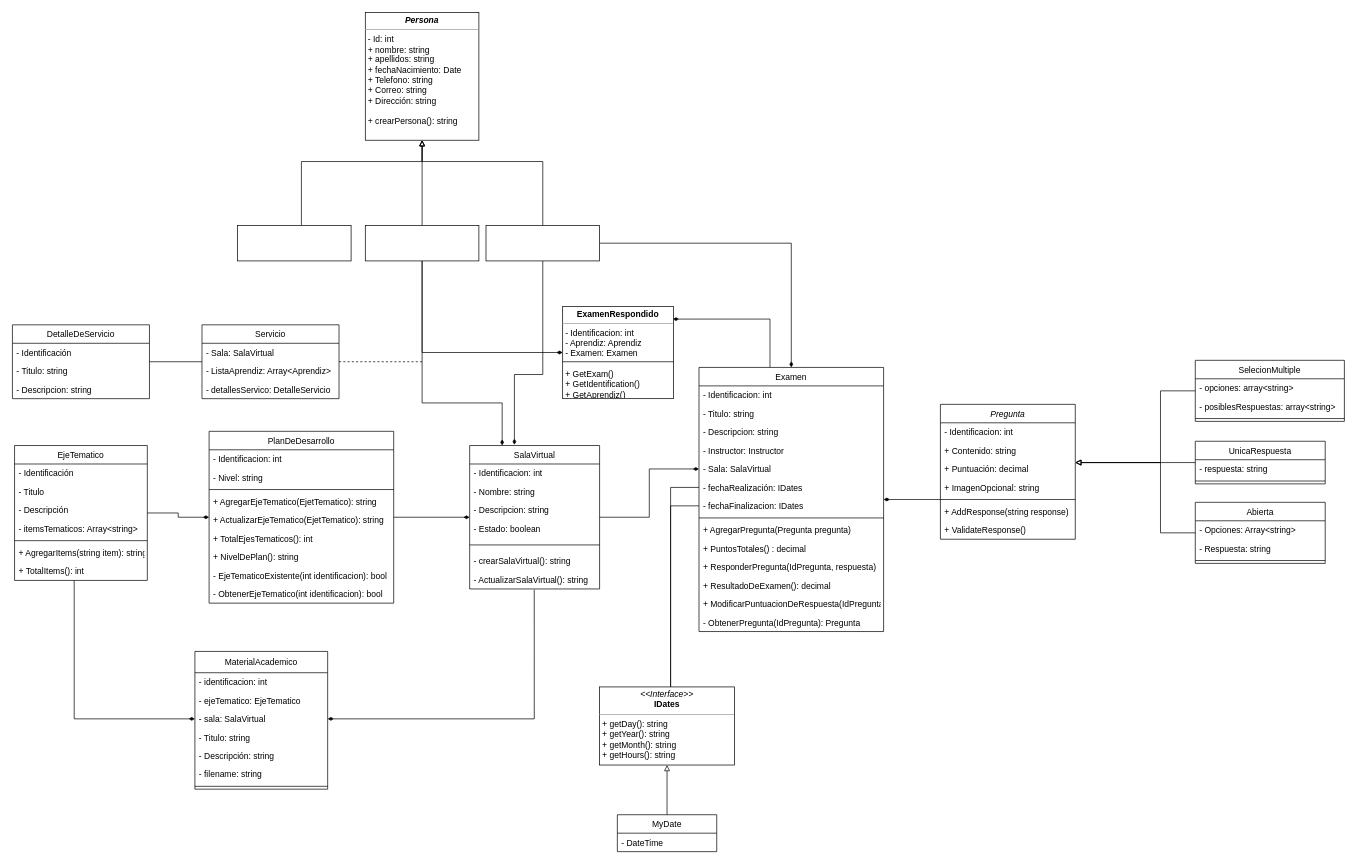
Image size: 1357x866. Some labels were removed from this diagram. Each missing label, with the centre of its shape:
"Administrador" belongs at point (294, 243).
"Aprendiz" belongs at point (422, 243).
"Instructor - crearExamen()" belongs at point (542, 243).
